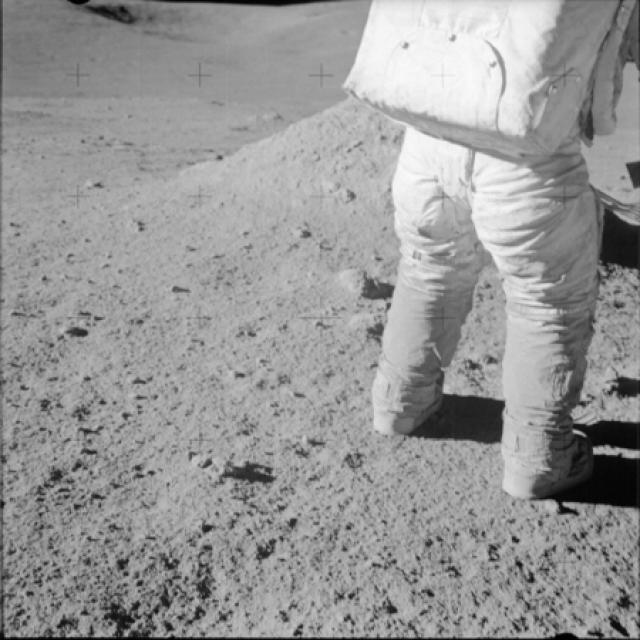rock: (318, 251, 389, 302), (182, 444, 259, 484), (324, 167, 356, 202)
